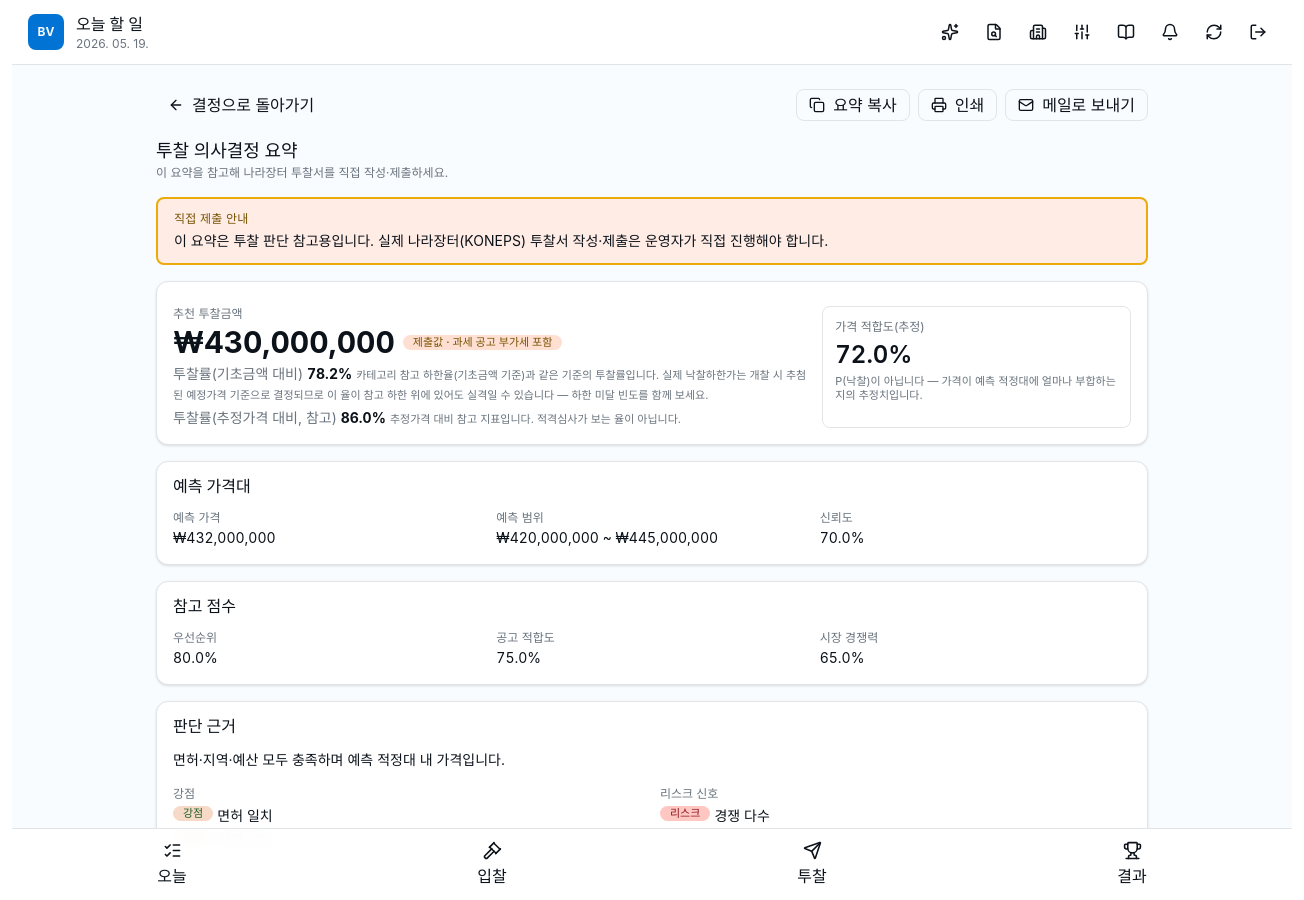
it: BidSummaryScreen › skipped_no_recipient 응답은 경고 토스트로 표시하고 성공 문구를 쓰지 않는다
The image size is (1304, 900).
What coordinates should you click on to do the following:
click the button "메일로 보내기"
I would click on:
 (1077, 105)
Its box is [1005,89,1148,121].
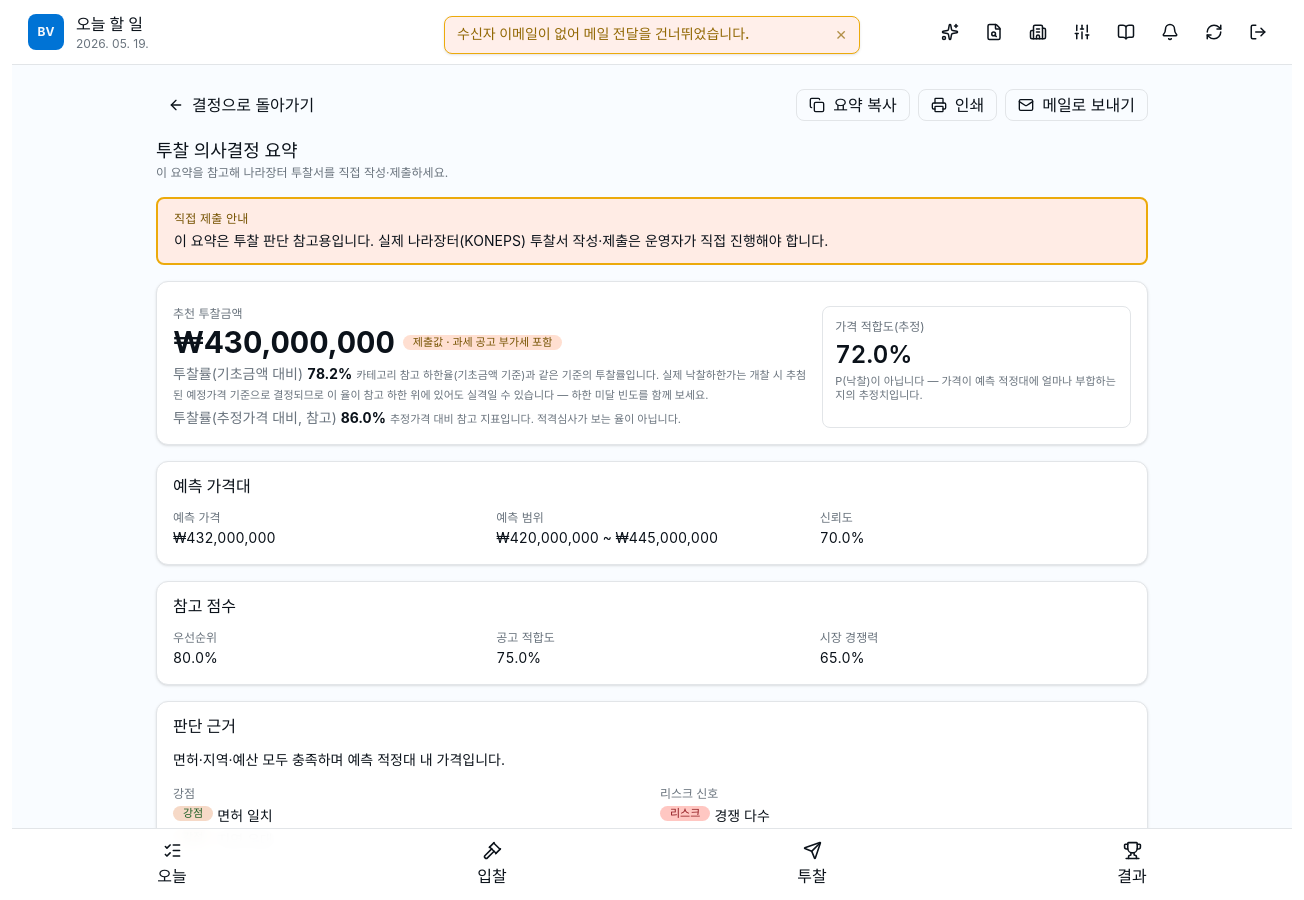
Expected: the message "수신자 이메일이 없어 메일 전달을 건너뛰었습니다. ✕" is shown, [444,16,860,54]
